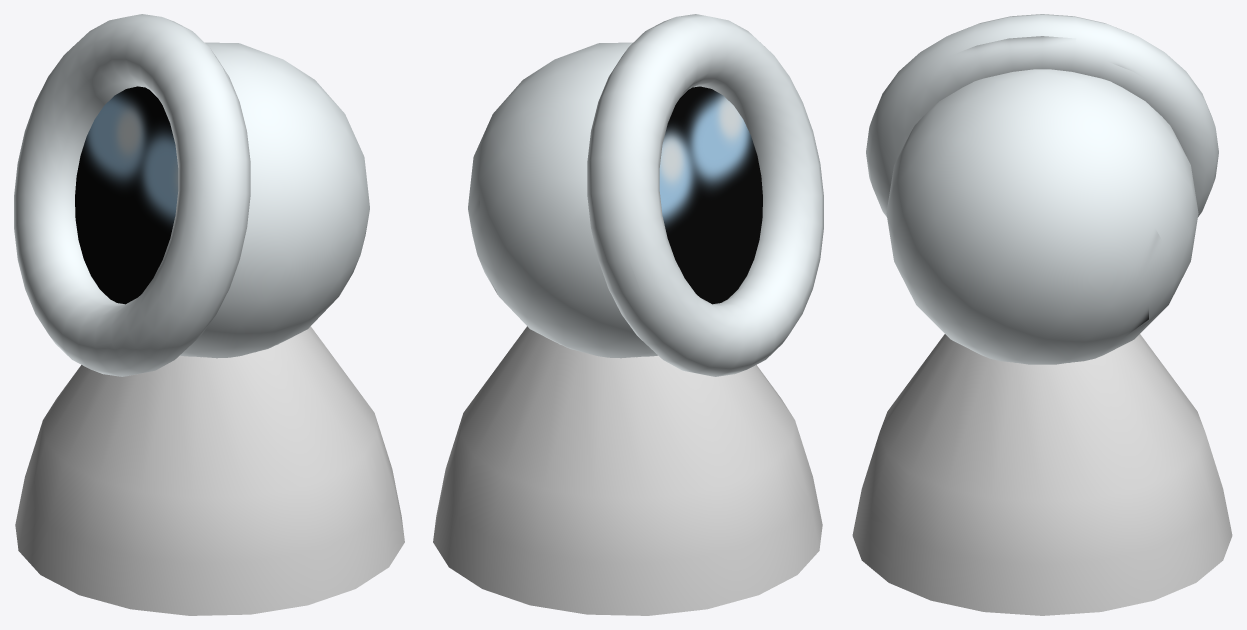
Rendered from Homeboy.fbx.
3 views of the same model, side by side, from view 1: azimuth 30°, elevation 25°; view 2: azimuth 150°, elevation 25°; view 3: azimuth 270°, elevation 25° (orthographic). The views are drawn at different scales.
Parts seen in each view (by area): view 1: Circle, Torus, Icosphere; view 2: Circle, Torus, Icosphere; view 3: Circle, Icosphere, Torus.
Part boxes in pixels (left/top/right/bottom): Circle: left=15, top=326, right=404, bottom=615; Torus: left=14, top=14, right=250, bottom=376; Icosphere: left=75, top=42, right=369, bottom=358; Circle: left=433, top=326, right=822, bottom=615; Torus: left=587, top=14, right=823, bottom=376; Icosphere: left=468, top=42, right=762, bottom=358; Circle: left=852, top=334, right=1232, bottom=615; Icosphere: left=886, top=69, right=1198, bottom=364; Torus: left=866, top=14, right=1218, bottom=216.
Size of the model in its own units: 200 by 290 by 200.
Materials: 1 (1 with a texture image).
